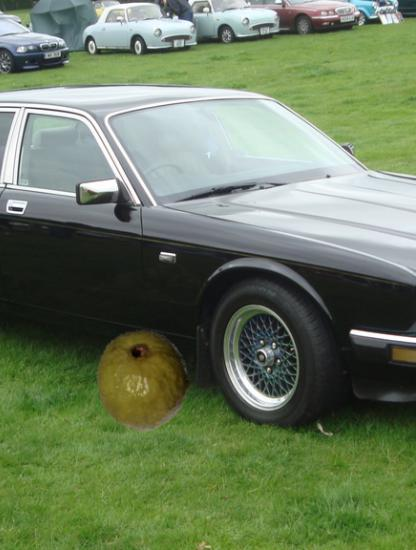Guava: (91, 328, 196, 433)
